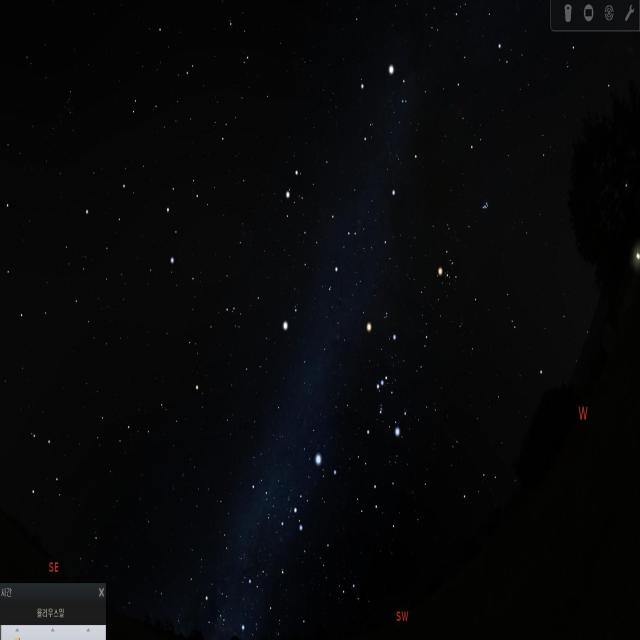canis_major: (286, 449, 343, 542)
canis_minor: (270, 294, 313, 346)
gemini: (274, 146, 366, 298)
leo: (72, 141, 207, 283)
orion: (360, 322, 408, 445)
pleiades: (478, 191, 496, 222)
taurus: (430, 172, 502, 314)
